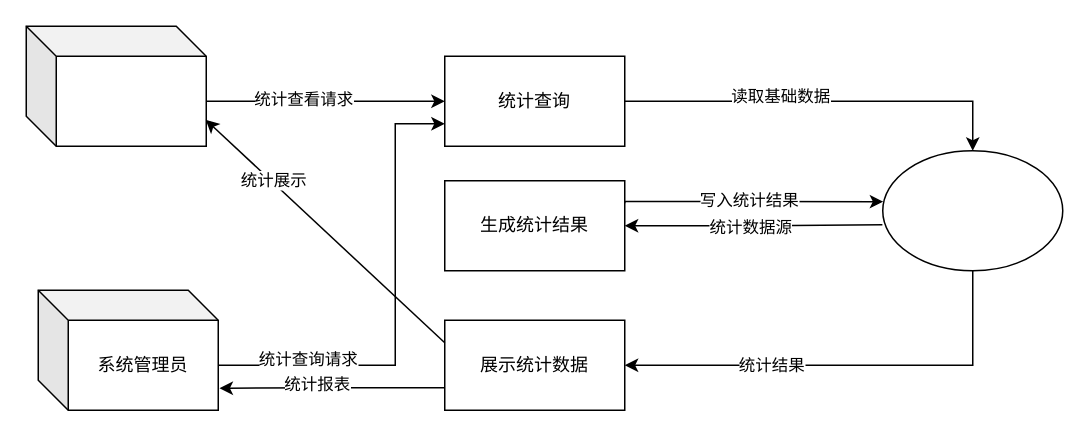
Image size: 1089x437. Some labels were removed from this diagram. Each missing label, with the centre of its shape:
"普通用户" belongs at pixel 115 85.
"统计信息表" belongs at pixel 972 210.
